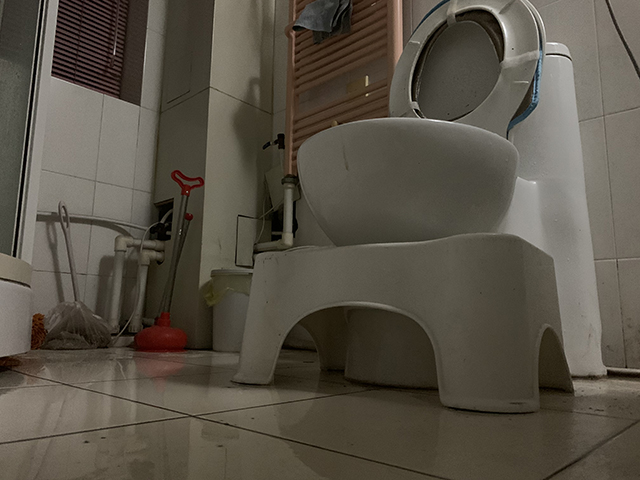closestool: (295, 1, 608, 391)
stool: (230, 234, 577, 415)
trashcan: (205, 267, 253, 353)
